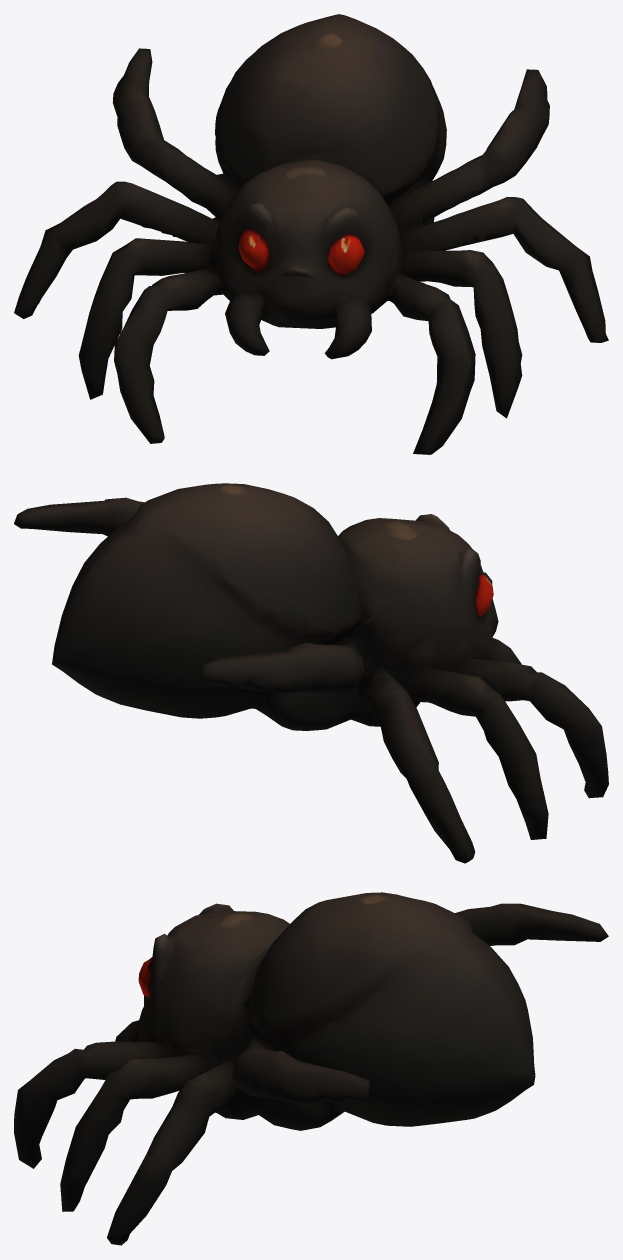
Rendered from spider.glb.
The picture shows the model from 3 angles, top to bottom: view 1: azimuth 30°, elevation 25°; view 2: azimuth 150°, elevation 25°; view 3: azimuth 270°, elevation 25°; orthographic projection. The views are drawn at different scales.
Parts seen in each view (by area): view 1: tripo_node_59bd79ea-5b89-428c-be4b-ded6603c4cf4; view 2: tripo_node_59bd79ea-5b89-428c-be4b-ded6603c4cf4; view 3: tripo_node_59bd79ea-5b89-428c-be4b-ded6603c4cf4.
Boxes of the visible parts, x1,y1,x2,y2 form: tripo_node_59bd79ea-5b89-428c-be4b-ded6603c4cf4: (14,14,608,454); tripo_node_59bd79ea-5b89-428c-be4b-ded6603c4cf4: (14,483,608,863); tripo_node_59bd79ea-5b89-428c-be4b-ded6603c4cf4: (14,892,608,1245).
Bounding box in the file's own units: 0.9815 × 0.5507 × 0.9778.
1 material, 1 textured.
